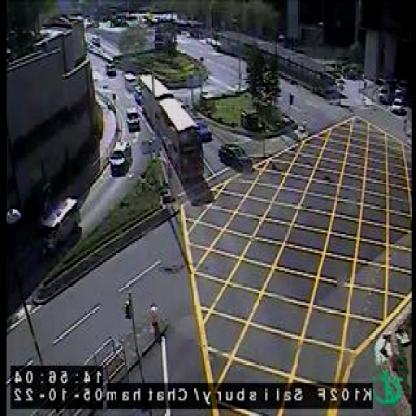Bus: (161, 97, 204, 172)
Car: (221, 144, 253, 173), (112, 138, 132, 172), (130, 106, 140, 130), (125, 73, 136, 88)
Truck: (39, 196, 81, 256), (142, 76, 172, 130)
